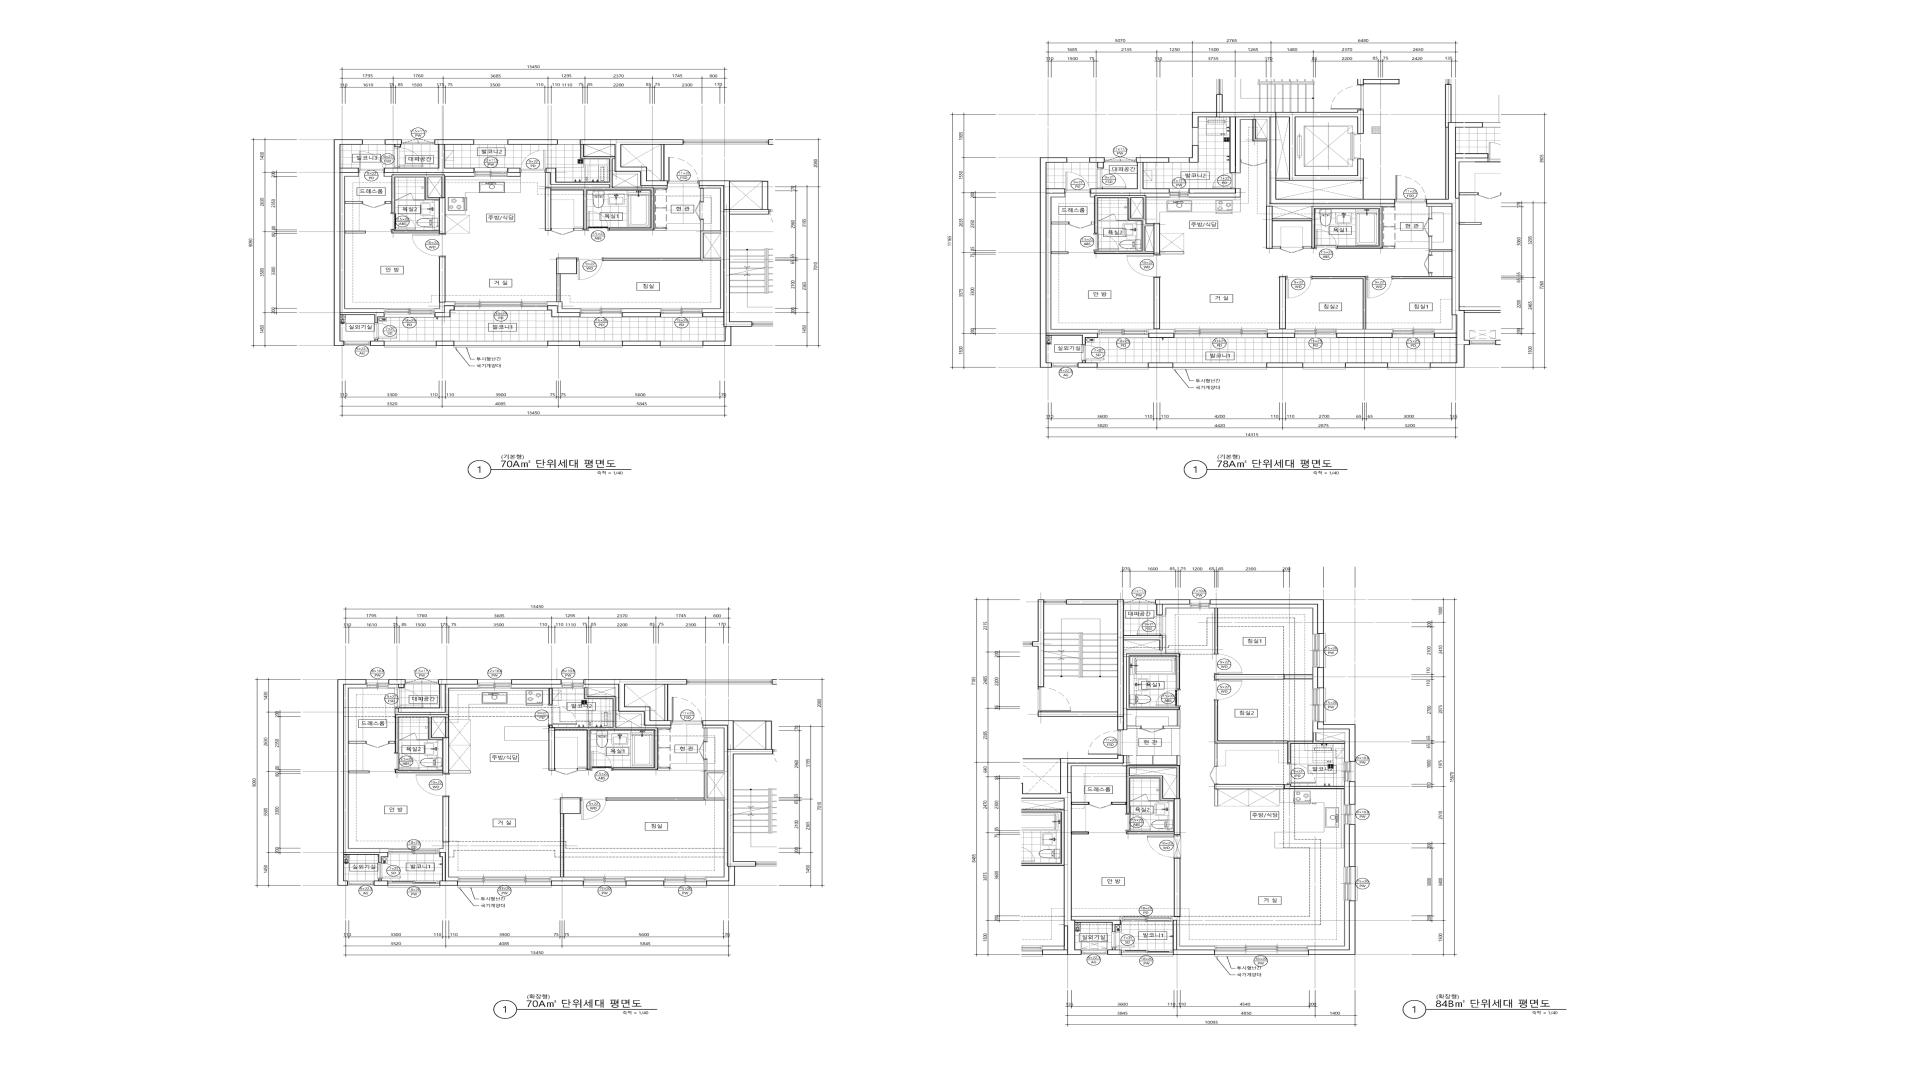door: (1395, 176, 1427, 202), (667, 157, 699, 183), (1038, 687, 1071, 712), (1088, 730, 1121, 755), (1331, 85, 1364, 110), (671, 697, 702, 723), (416, 773, 449, 797), (1147, 835, 1180, 858), (1127, 254, 1160, 277), (412, 234, 445, 257), (394, 147, 423, 168), (1366, 276, 1393, 298), (580, 798, 607, 820), (1288, 763, 1316, 784), (549, 704, 577, 725), (1137, 615, 1166, 635), (1097, 168, 1126, 188), (1286, 276, 1312, 298), (577, 258, 603, 280), (520, 150, 546, 172), (1215, 679, 1242, 700), (1214, 654, 1242, 674), (395, 688, 423, 708), (1065, 172, 1091, 193), (358, 151, 384, 172), (1126, 814, 1151, 832), (590, 751, 613, 770), (1156, 689, 1180, 707), (1094, 234, 1119, 251), (1315, 230, 1337, 249), (587, 211, 609, 230), (392, 213, 415, 230), (1112, 932, 1135, 948), (1213, 173, 1236, 189), (374, 323, 397, 339), (1082, 345, 1104, 361), (378, 863, 400, 879), (1241, 159, 1267, 166), (695, 201, 704, 221), (1069, 222, 1092, 229), (1280, 246, 1303, 253), (551, 228, 574, 235), (362, 201, 385, 208), (555, 768, 578, 775), (366, 741, 389, 748), (1141, 726, 1163, 733), (1089, 802, 1111, 809), (1424, 218, 1432, 237), (1130, 794, 1148, 802), (1210, 766, 1218, 784), (399, 733, 417, 741), (395, 193, 413, 201), (1424, 255, 1432, 273), (699, 742, 707, 760), (1098, 214, 1116, 221)
wall: (1393, 84, 1465, 368), (1192, 110, 1395, 204), (606, 726, 728, 881), (1038, 599, 1163, 730), (1236, 117, 1395, 206), (1060, 755, 1124, 955), (1040, 157, 1098, 368), (703, 720, 773, 886), (699, 181, 769, 346), (337, 679, 388, 886), (334, 140, 384, 346), (555, 684, 671, 770), (545, 145, 654, 231), (1215, 700, 1345, 763), (1046, 193, 1098, 333), (340, 173, 384, 313), (1266, 206, 1382, 249), (584, 679, 687, 726), (603, 220, 720, 261), (1111, 766, 1180, 835), (580, 140, 683, 186), (1210, 599, 1324, 634), (1124, 635, 1166, 730), (1094, 195, 1160, 254), (1210, 604, 1317, 634), (1126, 653, 1180, 710), (384, 139, 474, 173), (699, 186, 723, 312), (395, 679, 478, 715), (1312, 276, 1366, 329), (1091, 157, 1169, 193), (1309, 901, 1356, 955), (389, 715, 449, 753), (1068, 755, 1127, 793), (551, 814, 583, 881), (391, 175, 445, 213), (1309, 901, 1349, 950), (613, 159, 667, 188), (1317, 722, 1356, 762), (1173, 920, 1215, 955), (1313, 722, 1349, 762), (1172, 917, 1215, 950), (1032, 599, 1044, 687), (511, 685, 561, 704), (439, 842, 457, 881), (1215, 784, 1345, 789), (439, 852, 457, 886), (1155, 599, 1190, 615), (1214, 674, 1313, 679), (707, 773, 726, 798), (1189, 189, 1241, 197), (1434, 315, 1457, 333), (1429, 237, 1452, 255), (1091, 193, 1169, 198), (1279, 276, 1286, 329), (1426, 204, 1452, 218), (547, 306, 580, 317), (384, 173, 474, 177), (1174, 858, 1180, 917), (556, 258, 577, 274), (547, 302, 580, 312), (1163, 710, 1180, 729), (548, 725, 555, 771), (560, 798, 580, 814), (442, 797, 449, 842), (1154, 277, 1160, 329), (1253, 119, 1267, 141), (507, 139, 558, 145), (511, 679, 561, 685), (1163, 604, 1190, 615), (1337, 333, 1393, 338), (439, 257, 445, 303), (1349, 824, 1355, 867), (442, 737, 449, 773), (1358, 79, 1399, 85), (1189, 189, 1236, 194), (587, 688, 616, 696), (1336, 329, 1393, 333), (439, 197, 445, 234), (1344, 824, 1349, 867), (1346, 363, 1388, 368), (435, 306, 454, 317), (622, 312, 661, 317), (626, 881, 664, 886), (622, 341, 660, 346), (435, 302, 454, 312), (1189, 145, 1199, 163), (1267, 363, 1303, 368), (1089, 157, 1105, 168), (1349, 782, 1356, 805), (551, 881, 583, 886), (548, 341, 580, 346), (622, 308, 661, 312), (388, 679, 405, 688), (626, 877, 664, 881), (1317, 667, 1324, 688), (1072, 917, 1121, 920), (395, 770, 443, 773), (1446, 127, 1448, 199), (392, 230, 439, 233), (1267, 333, 1295, 338), (1215, 608, 1218, 654), (1078, 361, 1097, 368), (1148, 333, 1174, 338), (1148, 363, 1173, 368), (385, 140, 402, 147), (1344, 782, 1349, 805), (556, 274, 560, 302), (1267, 329, 1295, 333), (661, 145, 664, 181), (508, 168, 520, 177), (665, 685, 668, 720), (1148, 329, 1174, 333), (374, 879, 388, 886), (370, 339, 384, 346), (1108, 948, 1121, 955), (436, 341, 454, 346), (1313, 667, 1317, 688), (1214, 789, 1218, 806), (700, 188, 704, 202), (348, 741, 366, 744), (345, 201, 362, 204), (1160, 252, 1184, 254), (1215, 743, 1217, 766), (345, 231, 366, 233), (449, 771, 470, 773), (349, 771, 369, 773), (1276, 178, 1289, 181), (388, 685, 398, 688), (1177, 756, 1180, 766), (574, 228, 584, 231), (1303, 246, 1312, 249), (1382, 247, 1395, 249), (654, 228, 666, 230), (1272, 246, 1280, 249), (417, 739, 428, 741), (385, 201, 392, 204), (1148, 801, 1159, 802), (1116, 220, 1127, 221), (413, 200, 424, 201), (1429, 273, 1432, 276), (1092, 222, 1094, 224), (734, 721, 766, 721), (730, 181, 762, 181)
window: (1215, 946, 1309, 957), (457, 877, 551, 888), (454, 301, 547, 311), (1174, 329, 1267, 338), (454, 341, 548, 348), (1173, 363, 1267, 369), (664, 877, 707, 888), (583, 877, 626, 888), (384, 308, 435, 317), (1098, 329, 1148, 338), (1344, 867, 1357, 901), (1313, 688, 1326, 722), (1313, 634, 1326, 667), (580, 308, 622, 317), (1295, 329, 1337, 338), (661, 308, 702, 317), (1393, 329, 1434, 338), (1121, 950, 1173, 957), (388, 881, 440, 888), (384, 341, 436, 348), (474, 168, 508, 177), (1097, 363, 1148, 369), (388, 848, 439, 854), (660, 341, 703, 348), (1303, 363, 1346, 370), (478, 679, 511, 688), (580, 341, 622, 348), (1388, 363, 1431, 369), (1121, 917, 1172, 922), (1344, 762, 1356, 782), (1344, 805, 1355, 824), (561, 679, 584, 688), (474, 139, 508, 145), (405, 678, 438, 684), (366, 679, 388, 688), (402, 138, 434, 144), (1105, 157, 1136, 163), (1190, 599, 1210, 608), (1169, 189, 1189, 197), (1124, 599, 1155, 604), (1067, 157, 1089, 163), (558, 139, 580, 145), (348, 881, 374, 886), (1081, 950, 1107, 955), (1052, 363, 1078, 368), (344, 341, 370, 346), (1044, 599, 1066, 604), (363, 140, 385, 145), (1192, 128, 1198, 145), (1169, 158, 1189, 163)
